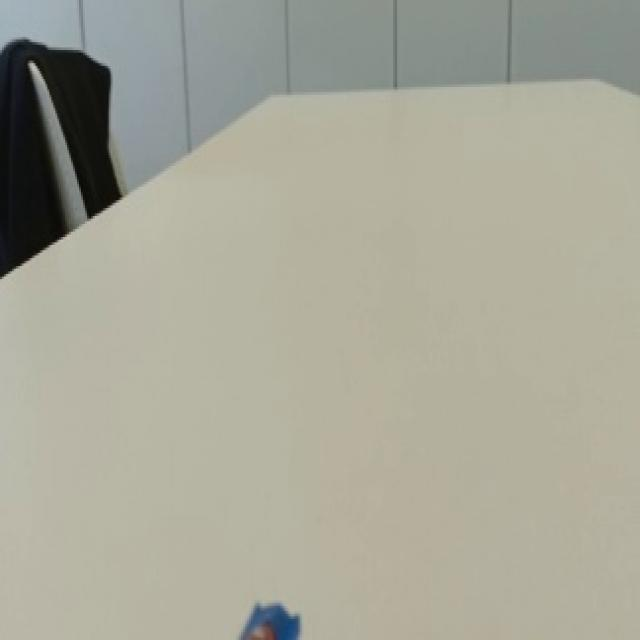1_NanoBug_Azul: (226, 584, 305, 640)
